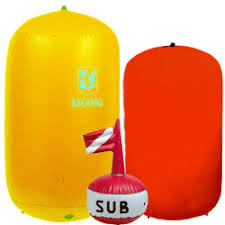buoy: (123, 44, 221, 221), (87, 175, 147, 225)
